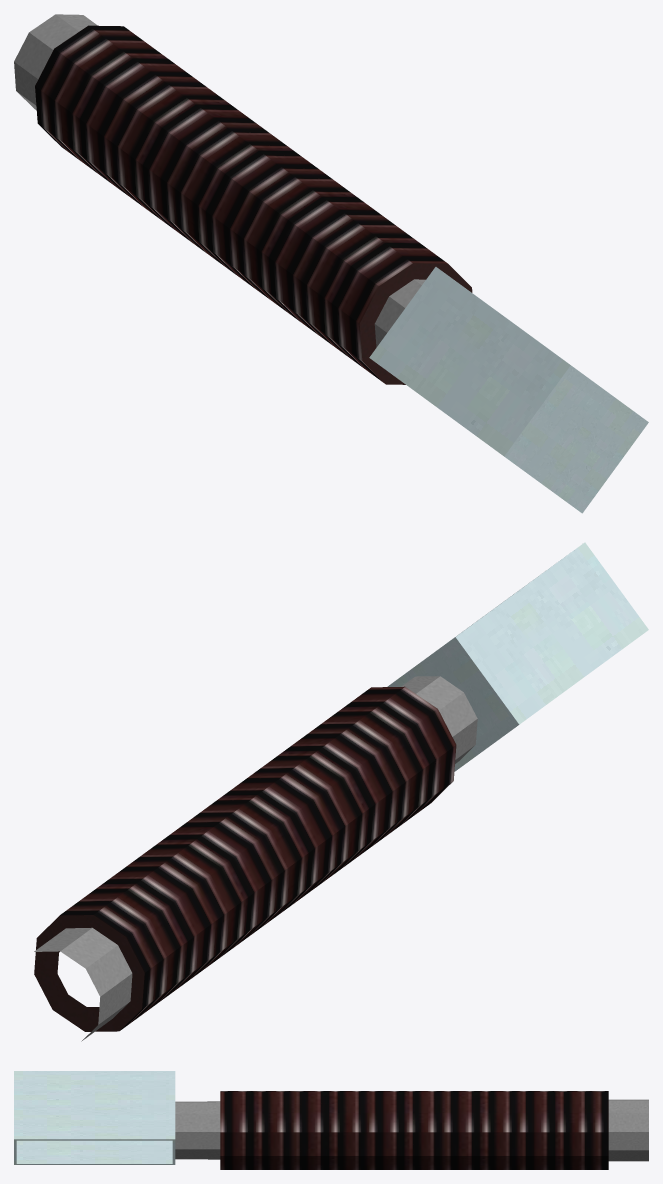
Rendered from jyzz011-geode.glb.
The picture shows the model from 3 angles, top to bottom: view 1: azimuth 30°, elevation 25°; view 2: azimuth 150°, elevation 25°; view 3: azimuth 270°, elevation 25°; orthographic projection. The views are drawn at different scales.
Visible parts, largest first — view 1: Node; view 2: Node; view 3: Node.
Boxes of the visible parts, x1,y1,x2,y2 form: Node: (14,14,648,513); Node: (34,542,648,1041); Node: (14,1071,648,1169).
Size of the model in its own units: 0.1885 by 0.1888 by 1.2.
4 materials, 4 textured.
